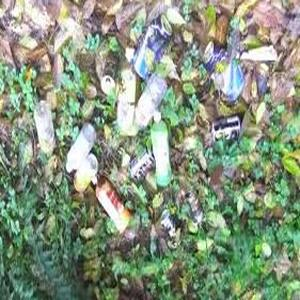Plastic: (152, 113, 175, 188), (33, 96, 58, 160)
